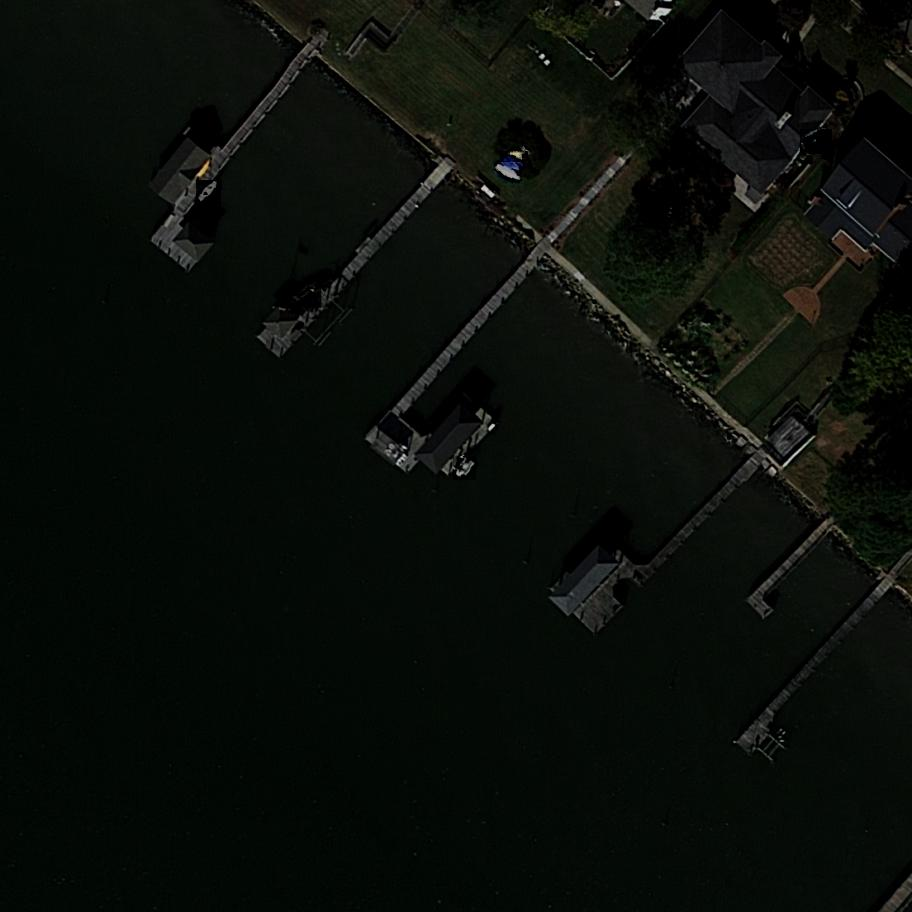ship: (291, 282, 323, 310), (493, 162, 524, 185), (197, 180, 222, 206), (454, 455, 477, 481), (500, 154, 523, 174), (508, 152, 528, 158)
small-vehicle: (640, 191, 681, 222), (801, 129, 834, 155)
